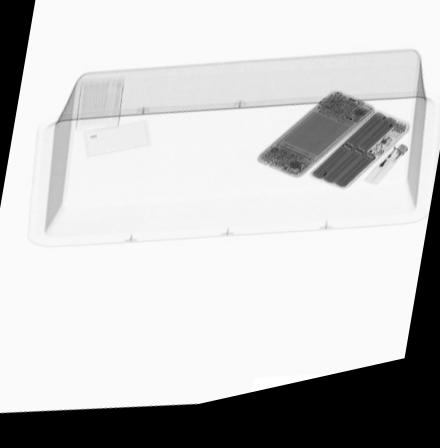Lighter: (359, 160, 407, 204)
